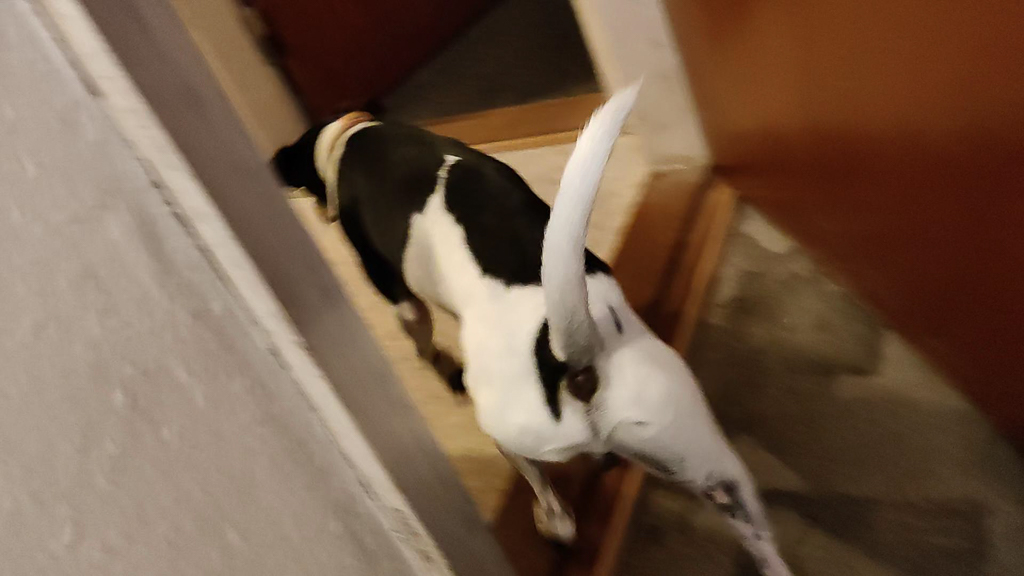Dog: (244, 56, 809, 576)
